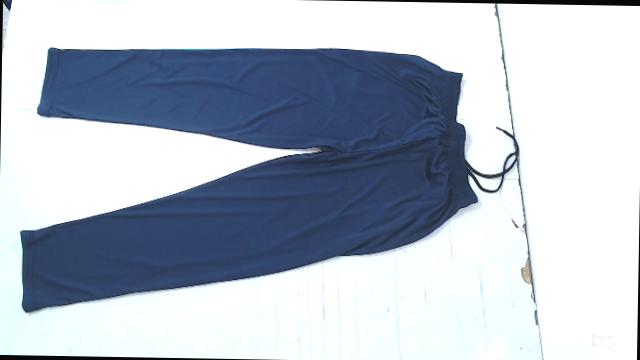new-garment: (22, 47, 477, 311)
